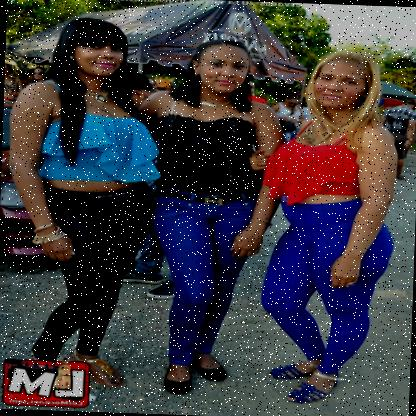Car: (0, 99, 49, 258)
